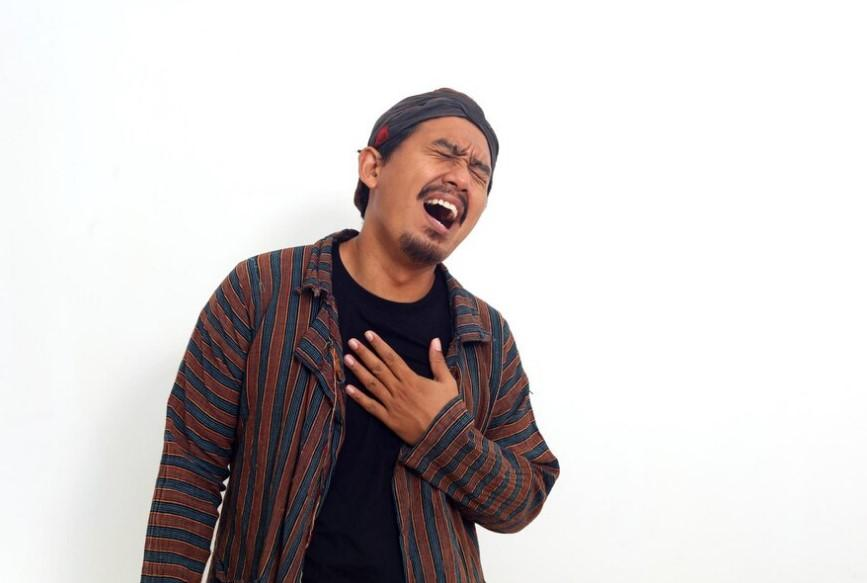pain: (429, 130, 491, 190)
